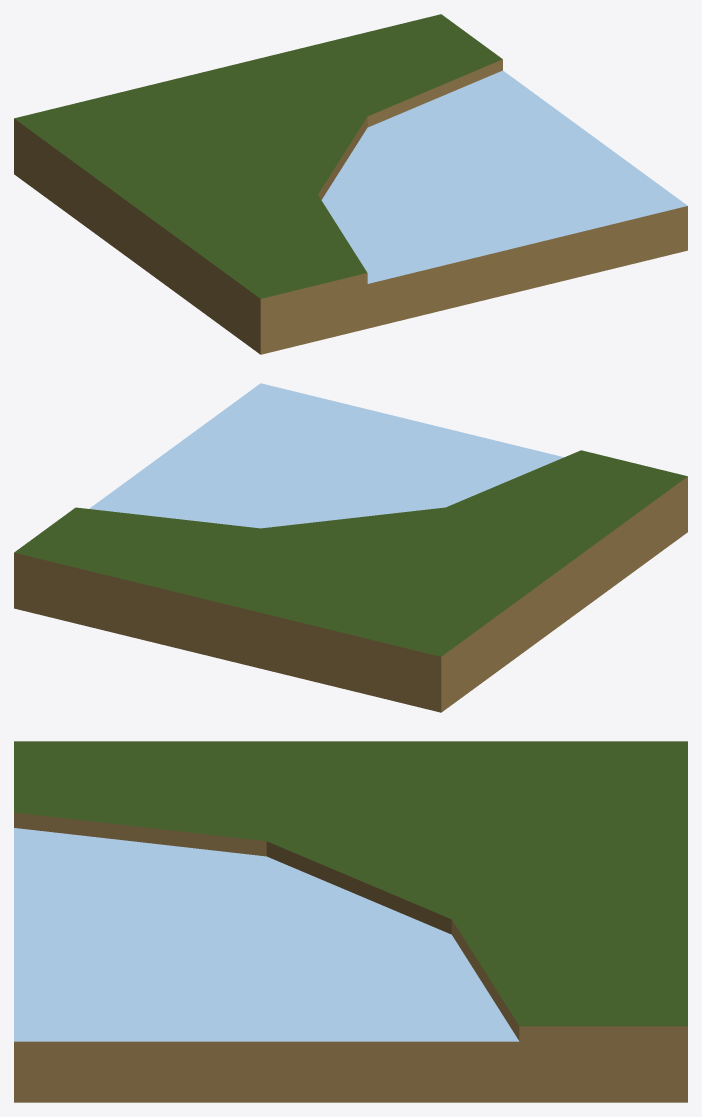
File: Terrain_Tile_Grass_Dirt_Water_Bank_Corner_01.fbx
3 renders of one model, top to bottom at view 1: azimuth 30°, elevation 25°; view 2: azimuth 150°, elevation 25°; view 3: azimuth 270°, elevation 25°, orthographic. The views are drawn at different scales.
Visible parts, largest first — view 1: Terrain_Tile_Grass_Dirt_Water_Bank_Corner_01; view 2: Terrain_Tile_Grass_Dirt_Water_Bank_Corner_01; view 3: Terrain_Tile_Grass_Dirt_Water_Bank_Corner_01.
Boxes of the visible parts, box(x1,y1,x2,y2) form: Terrain_Tile_Grass_Dirt_Water_Bank_Corner_01: box(14, 14, 687, 354); Terrain_Tile_Grass_Dirt_Water_Bank_Corner_01: box(14, 383, 687, 712); Terrain_Tile_Grass_Dirt_Water_Bank_Corner_01: box(14, 741, 687, 1102).
Bounding box in the file's own units: 126 × 15.75 × 126.
